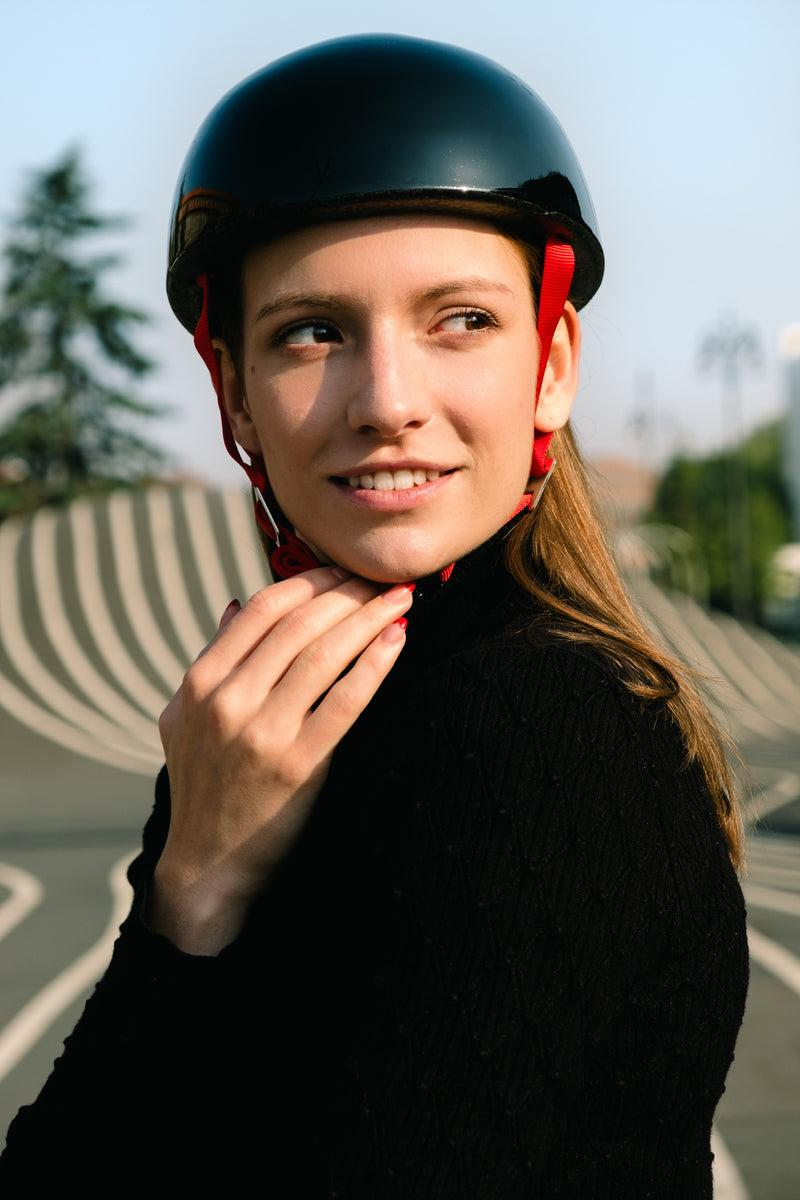helmet: (132, 132, 778, 745)
